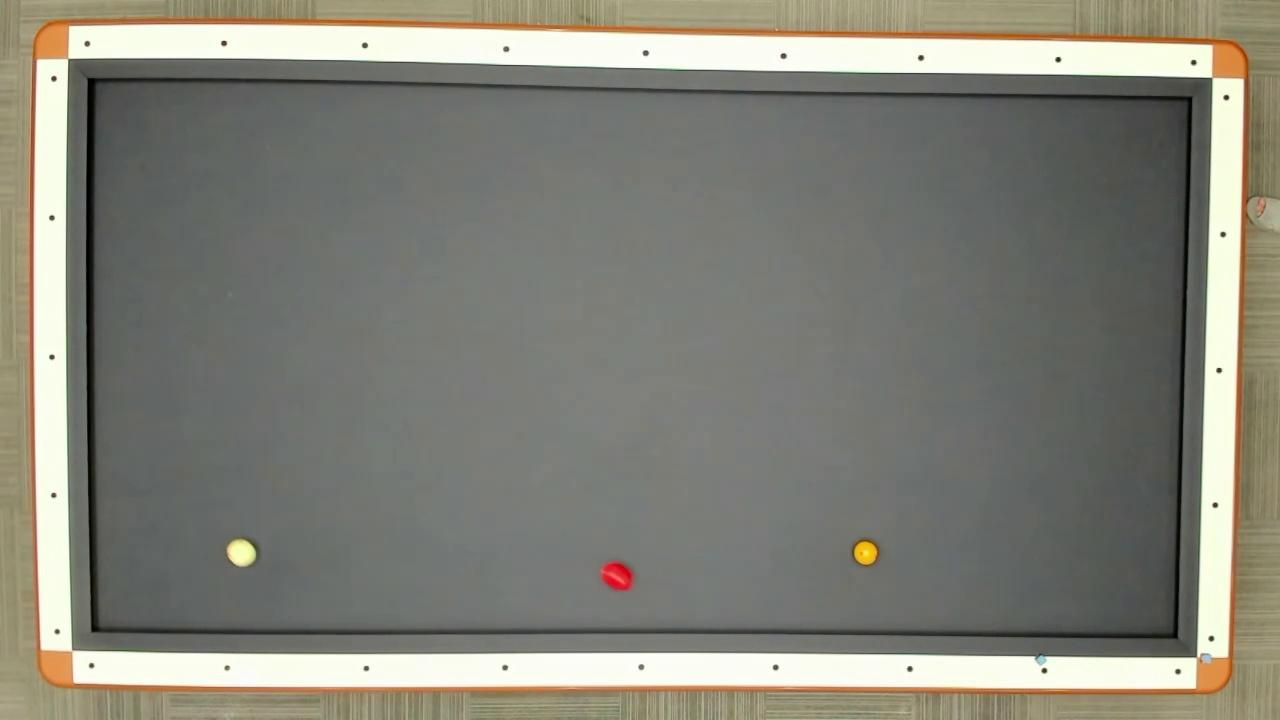Red: (599, 559, 635, 593)
White: (225, 536, 260, 569)
Yellow: (851, 538, 880, 568)
